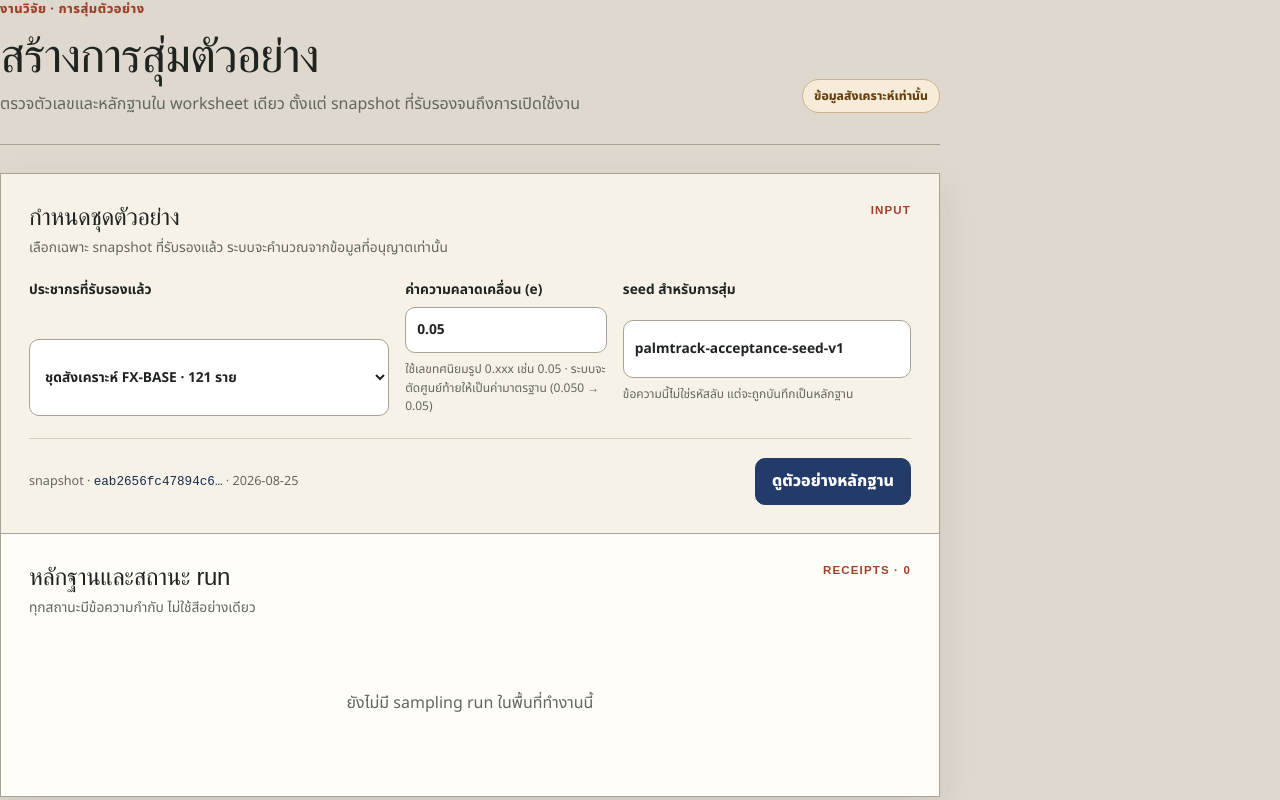
Test: SamplingWorkbench › saves a reviewed preview as a draft through the server action boundary
Click the button "ดูตัวอย่างหลักฐาน".
click(833, 481)  # box [755,458,911,505]
(page scrolled)
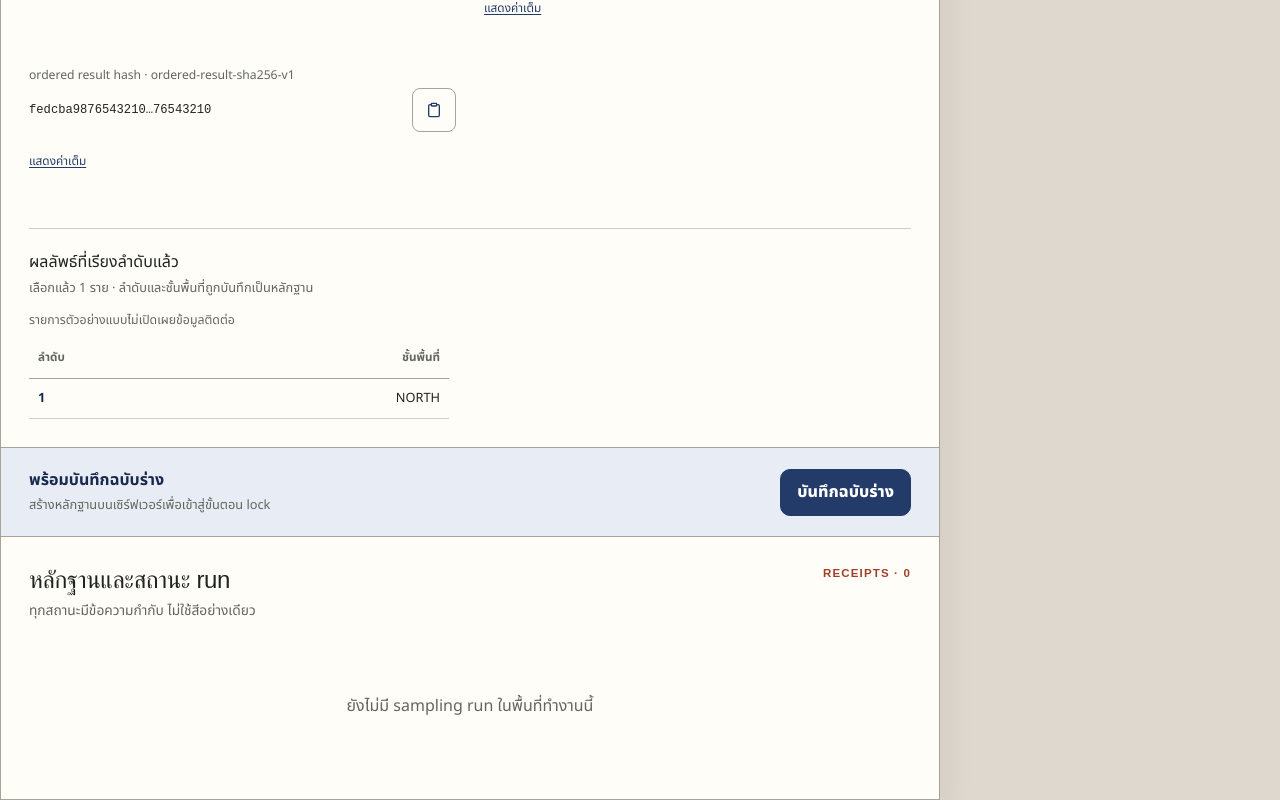
Now the button "บันทึกฉบับร่าง" is shown
Click the button "บันทึกฉบับร่าง".
click(846, 492)  # box [780,469,911,516]
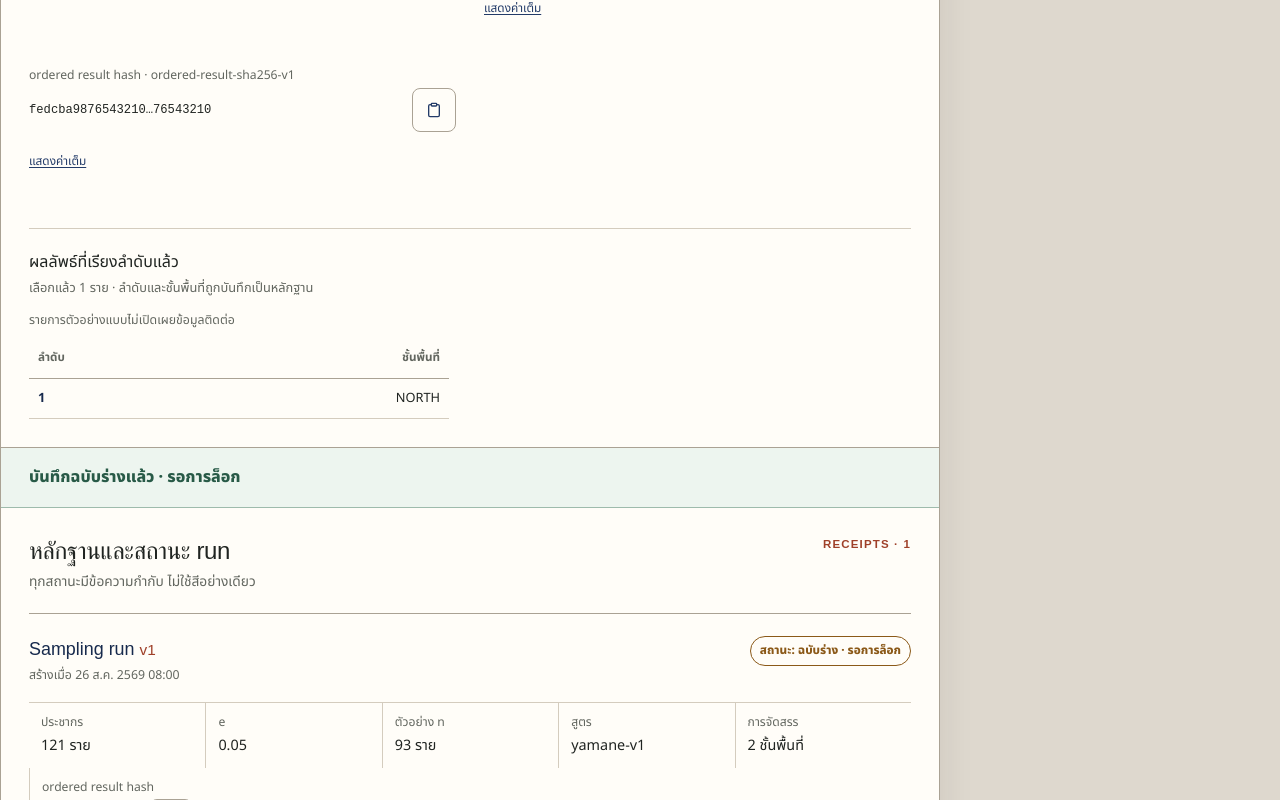
Now the text "สถานะ: ฉบับร่าง · รอการล็อก" is shown, box [750,636,911,666]
